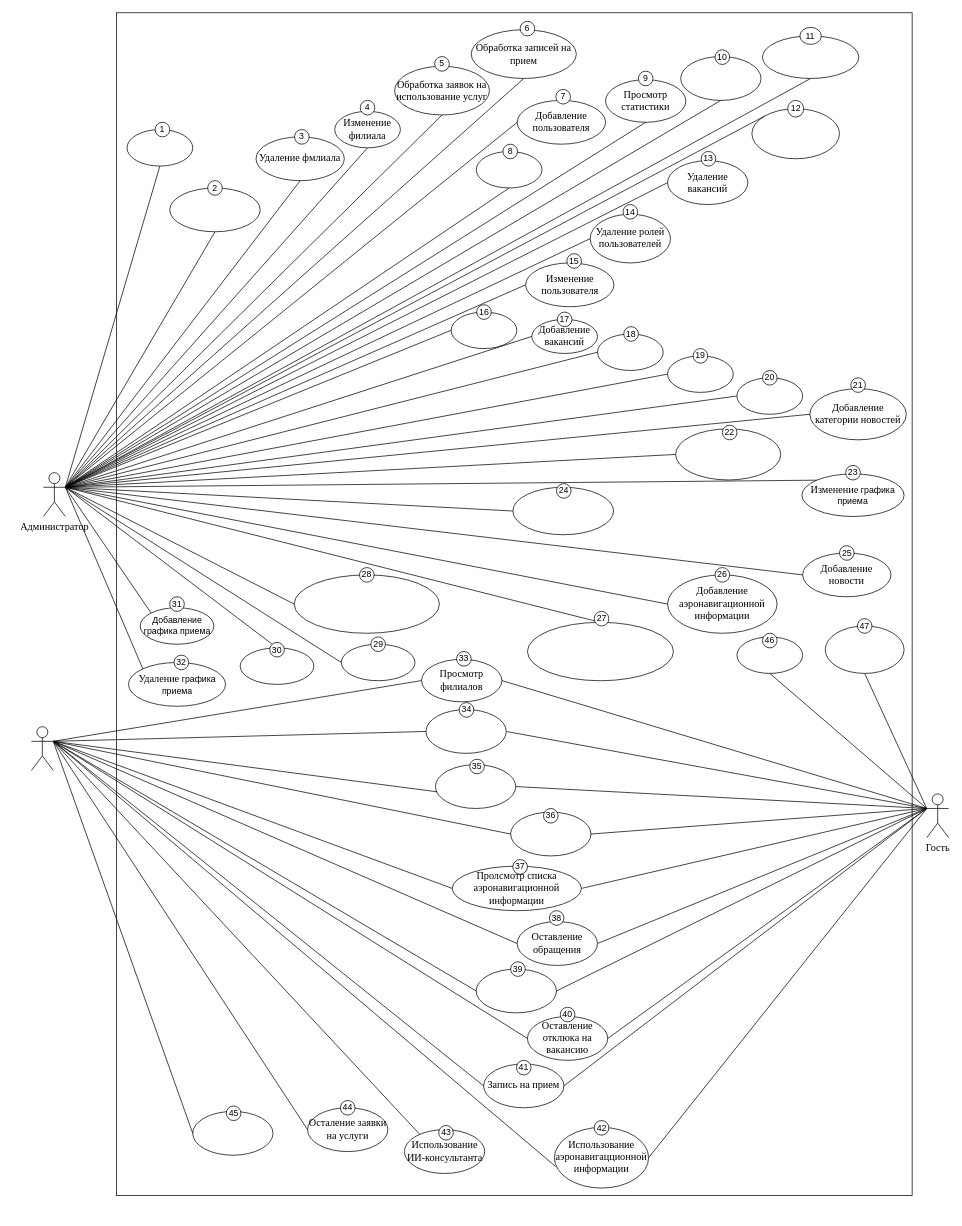
Some shapes in this 962 by 1226 pixel diagram are drawn without their labels. Here are the shapes that lost their labels. From the top down, the box of each, then its label:
(762, 35, 859, 78): Добавлние ролей пользователей
(680, 56, 761, 100): Обработка обращений
(126, 129, 193, 166): Обработка вакансий
(751, 108, 840, 159): Изменение ролей пользователей
(476, 151, 542, 188): Изменение вакансий
(169, 187, 260, 232): Добавление филиала
(450, 311, 517, 349): Удаление пользователя
(597, 333, 663, 370): Изменение услуг
(667, 355, 733, 392): Удаление услуг
(736, 377, 803, 414): Добавление услуг
(675, 428, 781, 480): Удаление категории новостей
(512, 487, 614, 535): Изменение категории новостей
(293, 574, 439, 633): Изменение аэронавигационной информации
(239, 647, 314, 684): Удаление новости
(341, 643, 415, 681): Изменение новости
(527, 622, 673, 681): Удаление аэронавигационной информации
(736, 636, 803, 673): Регистрация
(825, 625, 904, 673): Аутентификация
(31, 726, 53, 771): Пользователь
(425, 709, 506, 753): Просмотр новостей
(435, 764, 516, 808): Просмотр списка руководителей
(510, 811, 591, 856): Просмотр списка услуг
(475, 968, 556, 1013): Просмотр открытых вакансий
(192, 1111, 273, 1155): Выбор способа оплаты заказа
